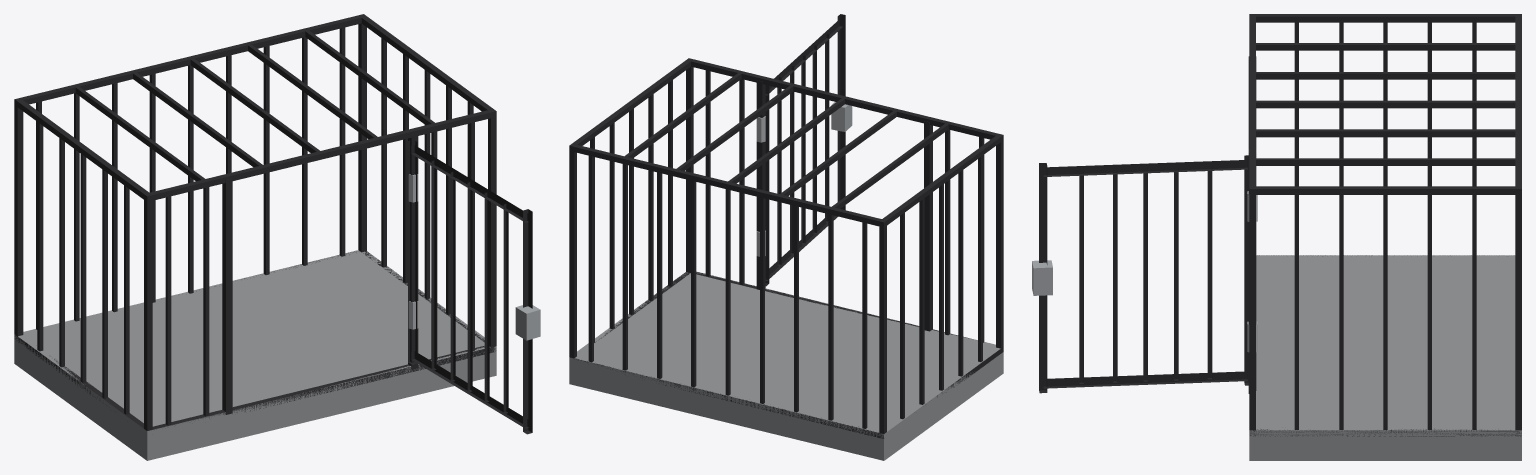
The model's file is FN_Crate_Pet.glb.
3 renders of one model, left to right at view 1: azimuth 30°, elevation 25°; view 2: azimuth 150°, elevation 25°; view 3: azimuth 270°, elevation 25°, orthographic. The views are drawn at different scales.
Parts seen in each view (by area): view 1: FN_Crate_Pet; view 2: FN_Crate_Pet; view 3: FN_Crate_Pet.
Boxes of the visible parts, left/top/right/bottom form: FN_Crate_Pet: left=14, top=14, right=540, bottom=460; FN_Crate_Pet: left=569, top=14, right=1003, bottom=460; FN_Crate_Pet: left=1032, top=14, right=1521, bottom=460.
Bounding box in the file's own units: 0.76 × 0.55 × 0.8984.
1 material, 1 textured.
